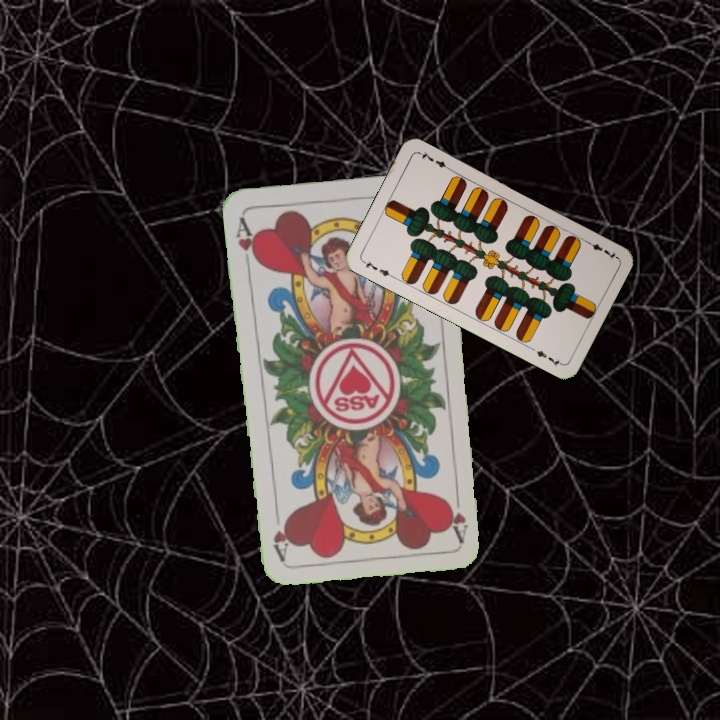E7: (358, 256, 396, 281), (581, 236, 619, 261)
HA: (231, 213, 261, 272), (443, 484, 471, 543)
